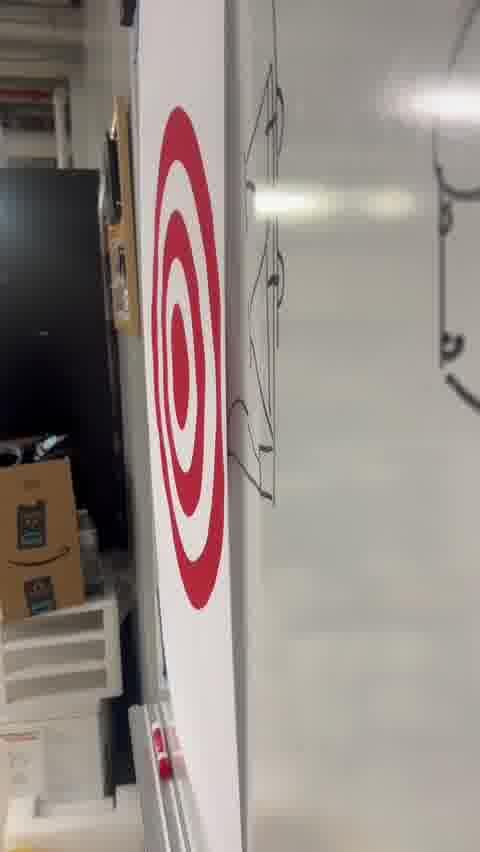target_red: (153, 110, 225, 606)
